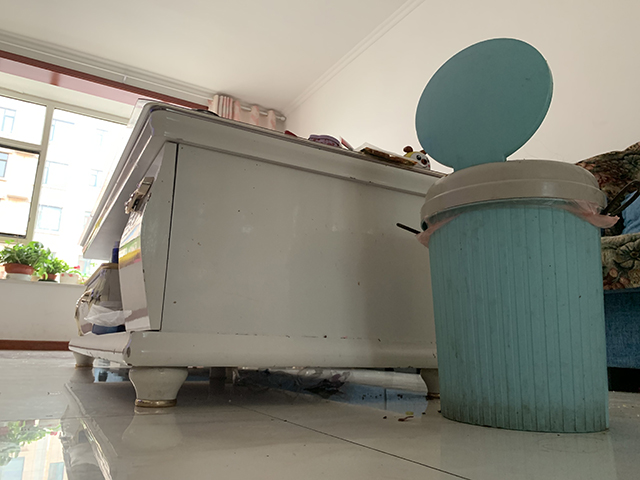table: (67, 97, 450, 411)
trashcan: (414, 37, 611, 433)
